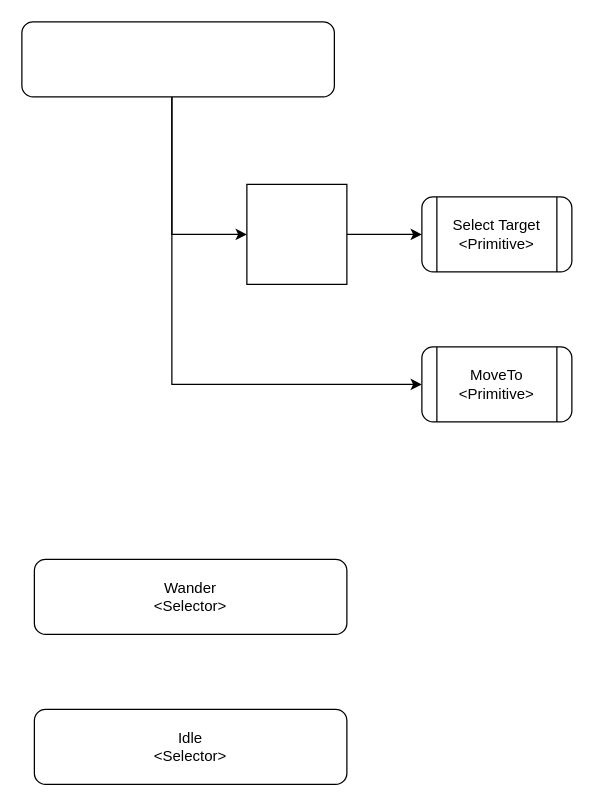
This 594x806 diagram has some shape labels left out. Here are the shapes that lost their labels. From the top down, the box of each, then its label:
(21, 21, 334, 97): Chase <Selector>
(246, 183, 347, 284): !hasTarget <Condition>
